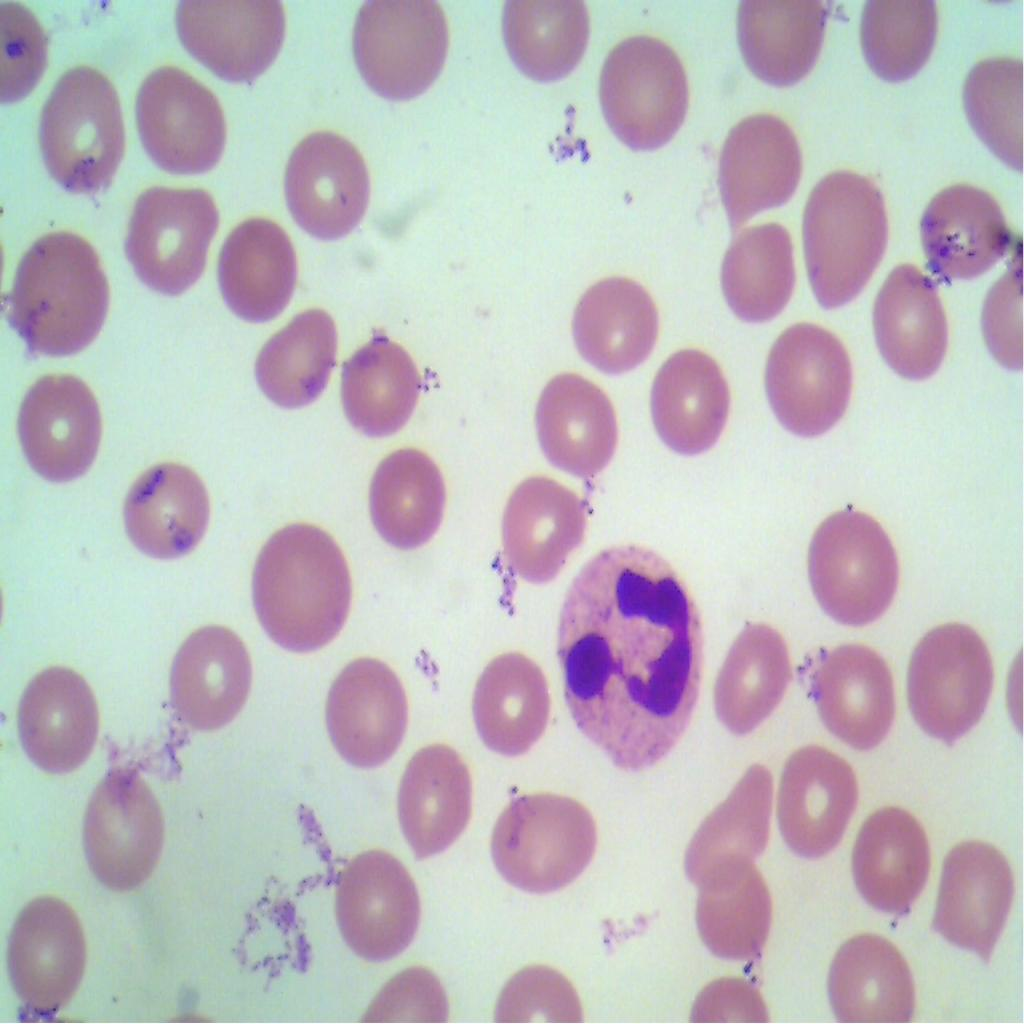Eritrosit: (6, 222, 126, 361), (22, 54, 136, 200), (249, 514, 358, 655), (481, 784, 606, 906), (798, 159, 894, 317), (900, 614, 1006, 756), (114, 178, 222, 311), (758, 307, 861, 442), (806, 501, 909, 635), (279, 118, 384, 246), (128, 58, 234, 180), (242, 288, 340, 418), (355, 429, 453, 558), (596, 26, 691, 159), (115, 444, 215, 570), (76, 755, 166, 895), (330, 842, 430, 968), (774, 742, 874, 868), (11, 368, 113, 491), (682, 760, 774, 895), (16, 644, 106, 781), (935, 832, 1023, 971), (709, 104, 811, 222), (566, 260, 668, 378), (466, 644, 558, 772), (699, 611, 793, 735), (346, 0, 453, 106), (162, 619, 258, 737), (321, 652, 416, 771), (490, 474, 589, 588), (529, 364, 624, 482), (166, 0, 286, 92), (384, 744, 478, 858), (690, 852, 784, 966), (809, 635, 899, 754), (852, 801, 938, 925), (329, 332, 429, 438), (3, 895, 91, 1014), (914, 180, 1015, 282), (489, 0, 599, 92), (216, 204, 298, 327), (646, 344, 734, 458), (826, 920, 918, 1023), (874, 264, 951, 385), (844, 0, 943, 91), (723, 0, 824, 87), (954, 44, 1023, 168), (718, 219, 798, 322)
Neutrofil: (546, 541, 712, 787)
